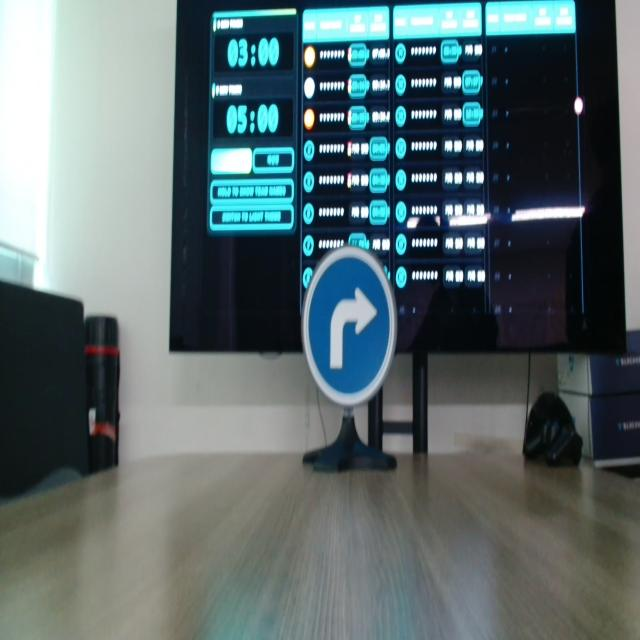right_dierection: (298, 225, 403, 442)
